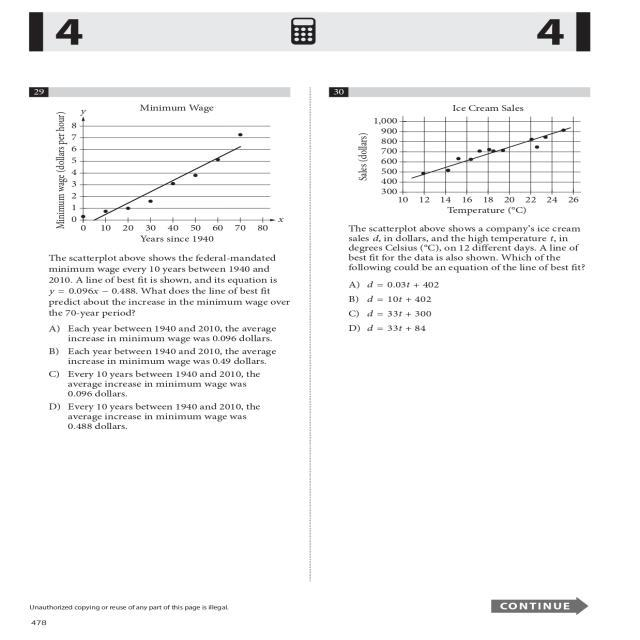Answer_Block: (315, 275, 598, 580), (18, 319, 302, 580)
Question_Answer_Block: (18, 82, 302, 580), (315, 82, 598, 580)
Question_Block: (18, 81, 302, 318), (315, 82, 598, 274)
Question_Paper_Area: (18, 82, 302, 580), (315, 82, 598, 580)
